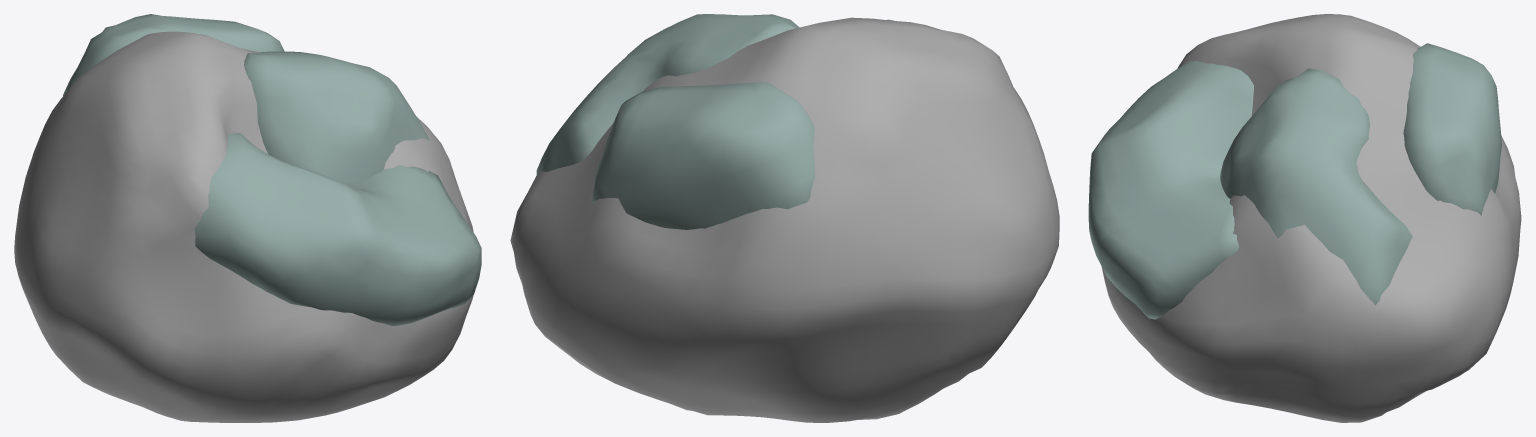
The model's file is OreDepot.fbx.
3 views of the same model, side by side, from view 1: azimuth 30°, elevation 25°; view 2: azimuth 150°, elevation 25°; view 3: azimuth 270°, elevation 25° (orthographic). The views are drawn at different scales.
Visible parts, largest first — view 1: OreDepot_Stone, OreDepot_Metal; view 2: OreDepot_Stone, OreDepot_Metal; view 3: OreDepot_Stone, OreDepot_Metal.
Boxes of the visible parts, x1,y1,x2,y2 form: OreDepot_Stone: (14, 31, 473, 422); OreDepot_Metal: (63, 14, 481, 325); OreDepot_Stone: (510, 17, 1059, 422); OreDepot_Metal: (536, 14, 894, 229); OreDepot_Stone: (1101, 14, 1521, 422); OreDepot_Metal: (1088, 43, 1501, 319).
Bounding box in the file's own units: 2.4 × 1.94 × 2.27.
